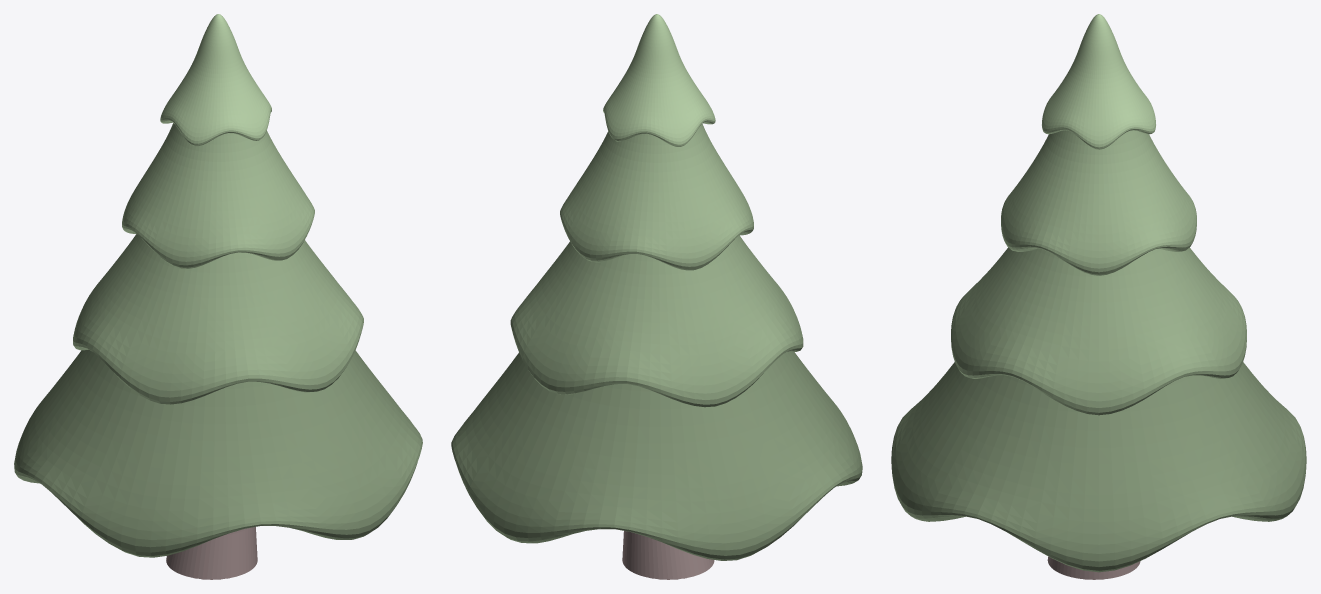
The model's file is tree_empty.glb.
3 renders of one model, left to right at view 1: azimuth 30°, elevation 25°; view 2: azimuth 150°, elevation 25°; view 3: azimuth 270°, elevation 25°, orthographic.
Parts seen in each view (by area): view 1: Null.1, Cylinder.1; view 2: Null.1, Cylinder.1; view 3: Null.1, Cylinder.1.
Boxes of the visible parts, x1,y1,x2,y2 form: Null.1: [14, 14, 422, 557]; Cylinder.1: [166, 527, 257, 579]; Null.1: [451, 14, 862, 560]; Cylinder.1: [622, 531, 714, 579]; Null.1: [891, 14, 1306, 572]; Cylinder.1: [1047, 556, 1140, 579].
Size of the model in its own units: 5.41 by 7.96 by 5.42.
